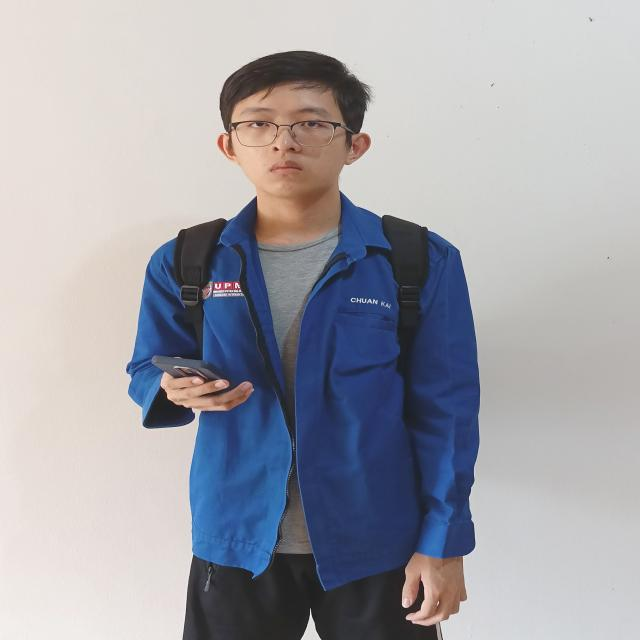person_with_labcoat: (127, 51, 480, 640)
